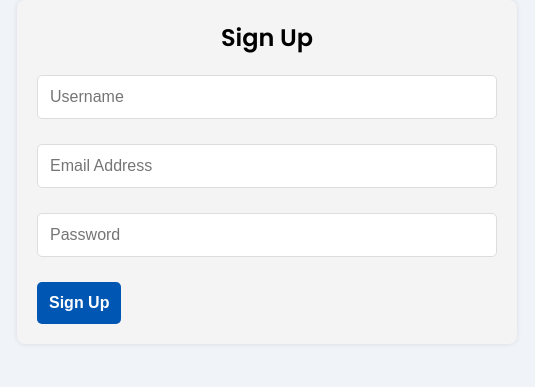
it: SignupForm › submits form and displays success message on successful signup
Type "testuser" into the field with placeholder "Username" at (267, 97), box [37,75,497,119]
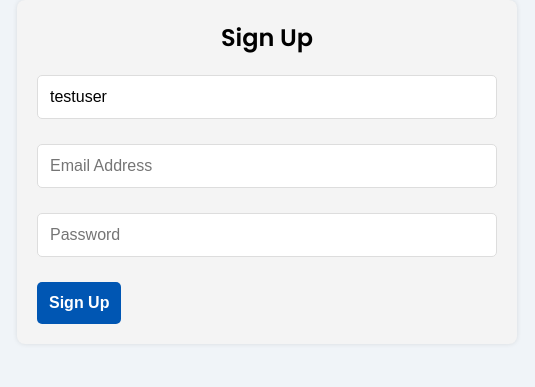
Type "test@example.com" into the field with placeholder "Email Address" at (267, 166), box [37,144,497,188]
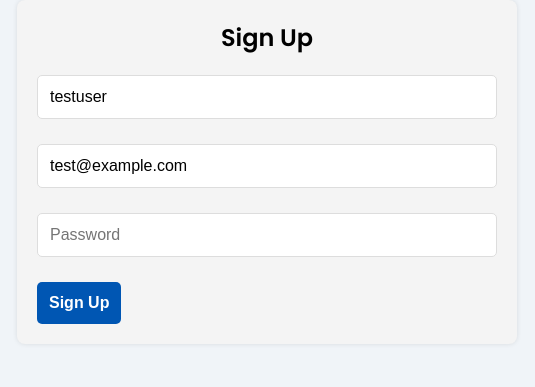
Type "password123" into the password field with placeholder "Password" at (267, 235), box [37,213,497,257]
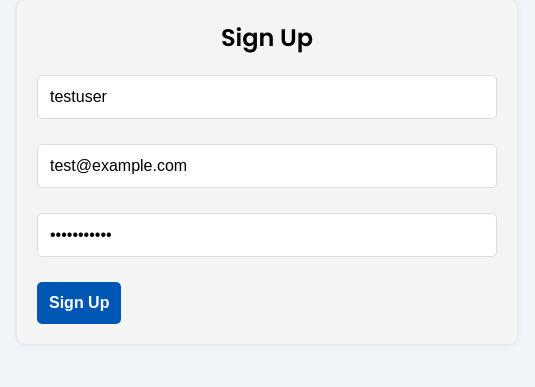
Click the button "Sign Up" at (79, 303), box [37,282,121,324]
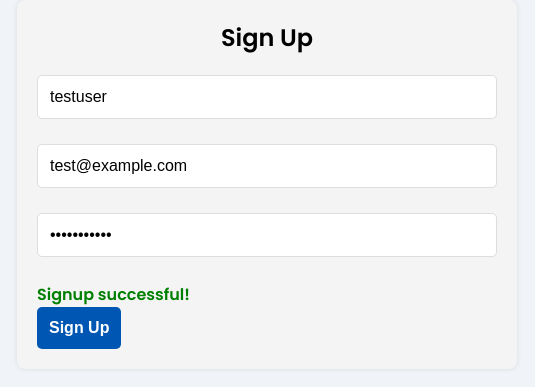
Expected: the text "Signup successful!" is shown, [37,283,190,306]
